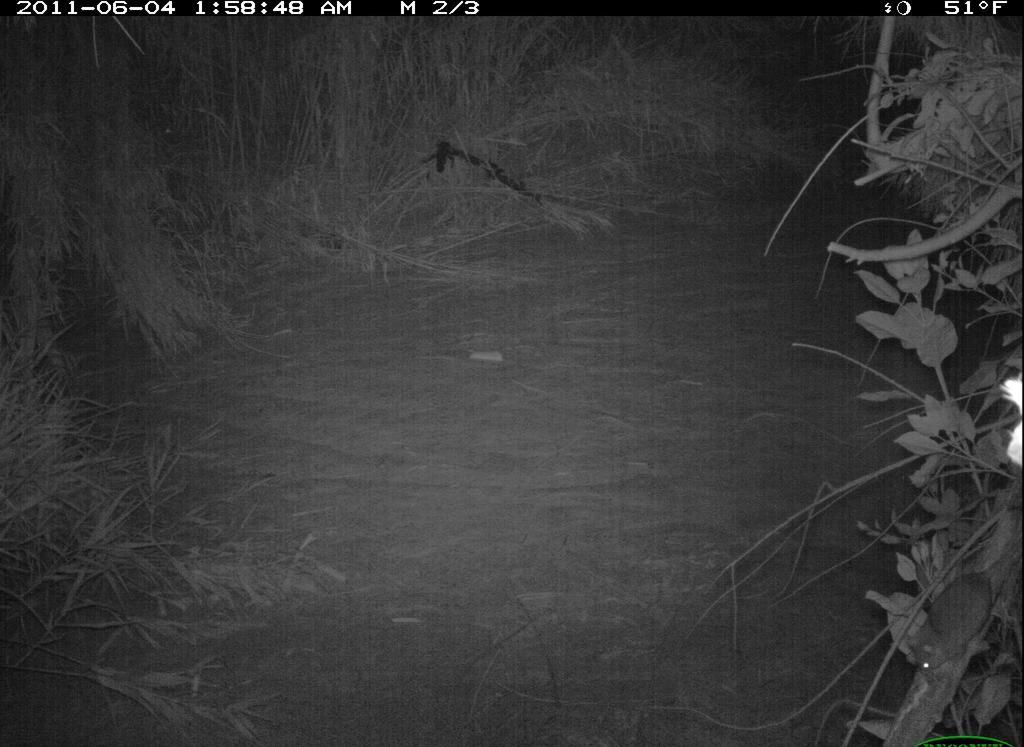rodent: (891, 553, 1021, 703)
